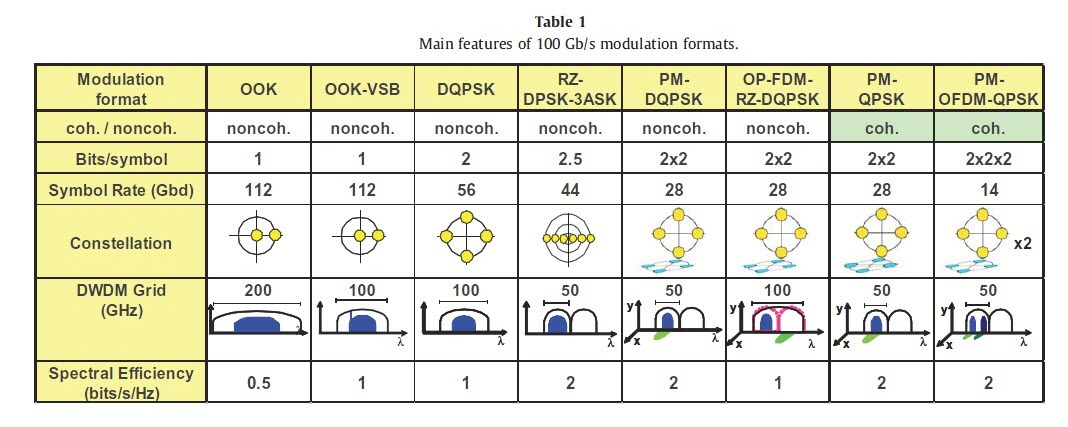table: (29, 59, 1049, 408)
